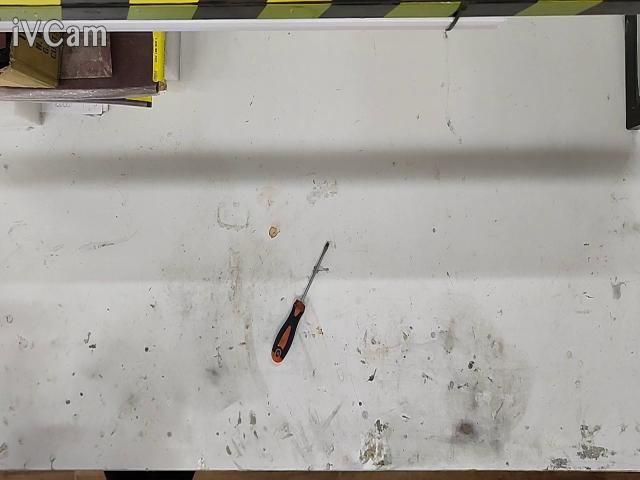Screwdriver: (271, 242, 329, 363)
